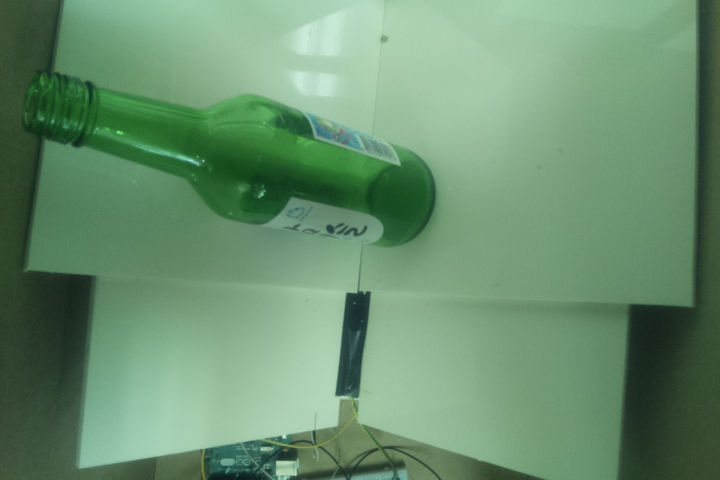soju: (22, 65, 438, 249)
